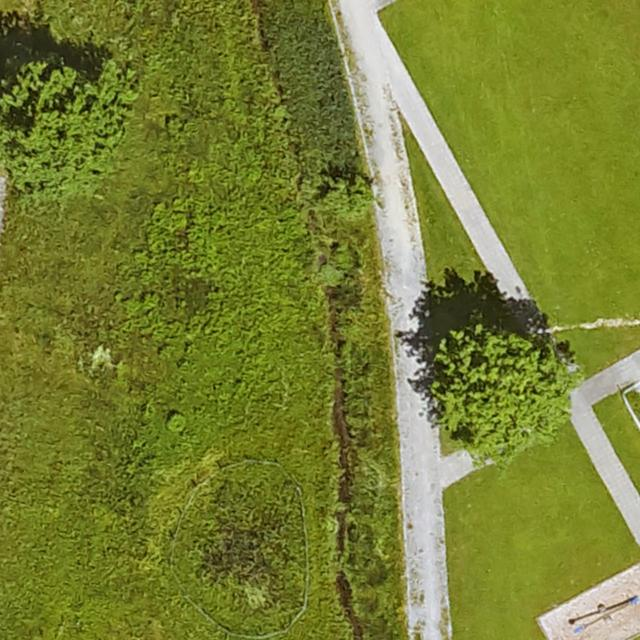tree: (428, 329, 575, 474), (0, 59, 140, 195)
